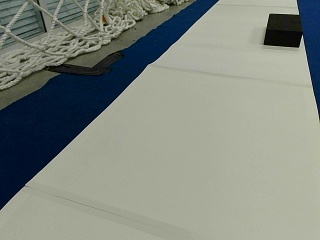block: (264, 13, 301, 47)
